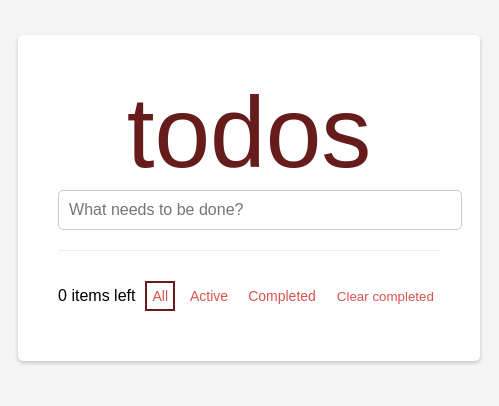
it: TodoViews › allows removing a todo
In the field with placeholder "What needs to be done?": (260, 210) [58,190,462,230], type "New Todo"
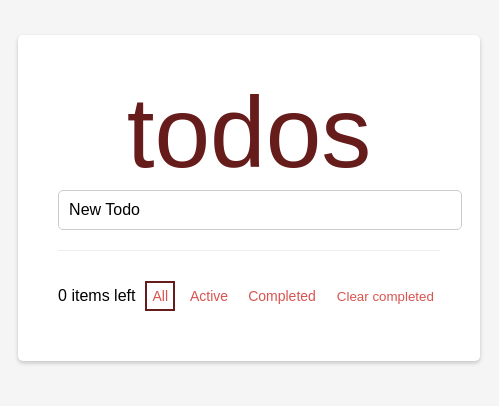
Submit the form with test id "todo-form", box [58,190,440,230]
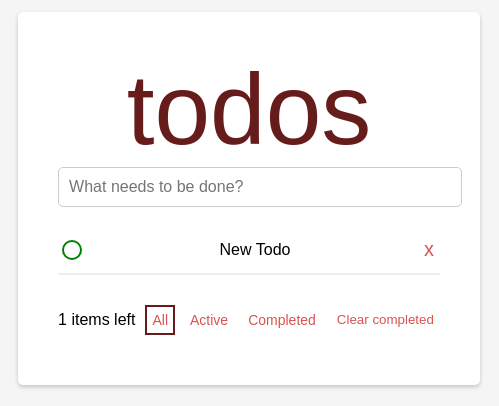
Click the button "x": click(429, 250) [418,237,440,262]
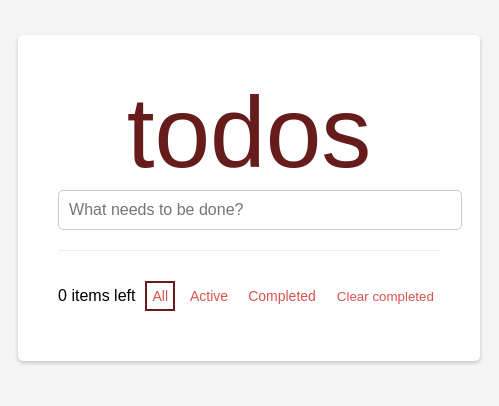
Check: the text "New Todo" is gone
